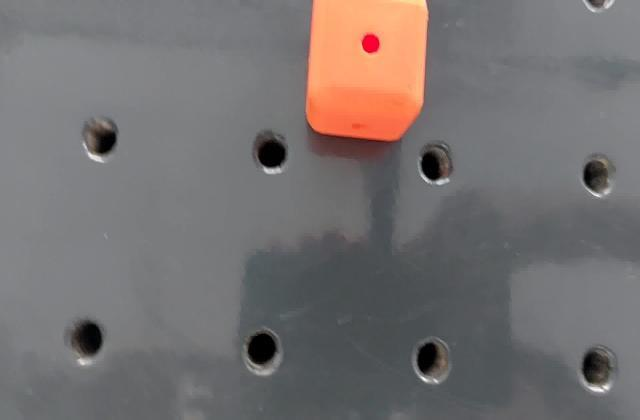cube: (300, 0, 432, 146)
